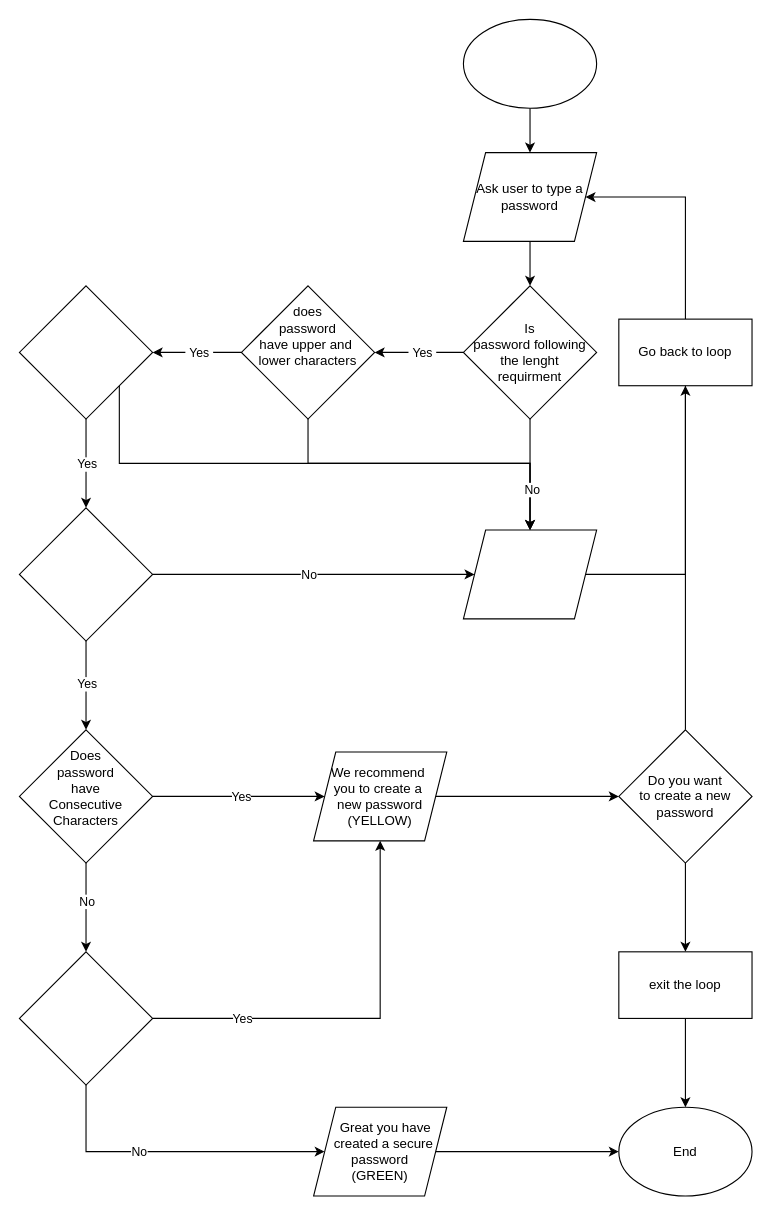
Image size: 771x1215. Some labels were removed from this diagram. Here are the shapes that lost their labels. From the top down, the box of each, then its label:
(462, 18, 597, 108): Start
(18, 285, 153, 419): Does password have numbers
(18, 507, 153, 641): Does password have special characters
(462, 529, 597, 619): Create a new password (RED)
(18, 951, 153, 1085): Does password have Consecutive Numbers
